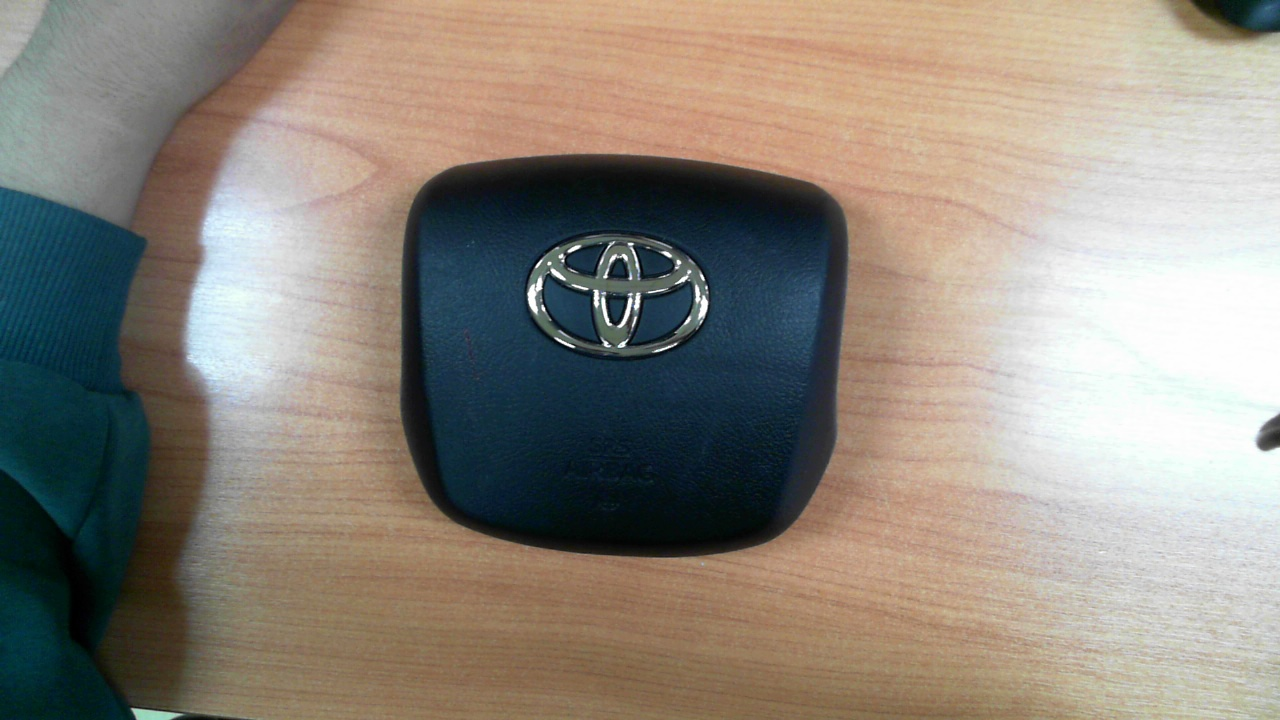Airbag: (398, 153, 850, 559)
Toyota: (526, 233, 709, 358)
